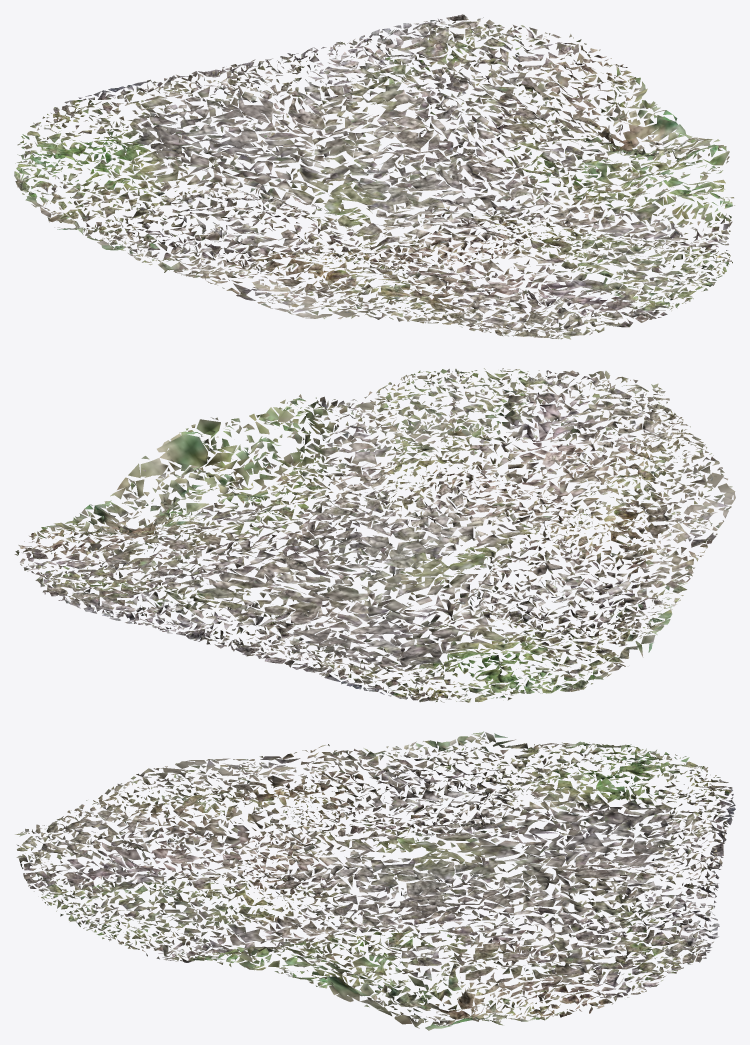
The model's file is tracce-nel-fango.glb.
The picture shows the model from 3 angles, top to bottom: view 1: azimuth 30°, elevation 25°; view 2: azimuth 150°, elevation 25°; view 3: azimuth 270°, elevation 25°; orthographic projection. The views are drawn at different scales.
Parts seen in each view (by area): view 1: Object_2, Object_10, Object_3, Object_11, Object_6, Object_12, Object_14, Object_5, Object_13, Object_4, Object_7, Object_15 (+4 smaller); view 2: Object_2, Object_10, Object_3, Object_11, Object_6, Object_4, Object_14, Object_12, Object_5, Object_13, Object_15, Object_7 (+4 smaller); view 3: Object_2, Object_10, Object_3, Object_11, Object_12, Object_14, Object_6, Object_13, Object_5, Object_4, Object_15, Object_7 (+4 smaller).
Boxes of the visible parts, x1,y1,x2,y2 form: Object_2: (23, 23, 732, 335); Object_10: (15, 21, 732, 328); Object_3: (30, 24, 729, 336); Object_11: (23, 14, 720, 336); Object_6: (22, 19, 731, 337); Object_12: (15, 19, 733, 334); Object_14: (22, 21, 732, 336); Object_5: (21, 23, 729, 332); Object_13: (14, 14, 730, 334); Object_4: (22, 22, 719, 337); Object_7: (17, 17, 726, 334); Object_15: (17, 19, 731, 337); Object_2: (25, 370, 728, 702); Object_10: (28, 370, 693, 701); Object_3: (32, 370, 707, 700); Object_11: (21, 371, 710, 702); Object_6: (15, 369, 732, 694); Object_4: (19, 376, 693, 698); Object_14: (17, 370, 717, 701); Object_12: (20, 371, 709, 699); Object_5: (25, 372, 735, 698); Object_13: (23, 373, 723, 701); Object_15: (28, 368, 719, 702); Object_7: (17, 373, 725, 702); Object_2: (22, 739, 733, 1019); Object_10: (30, 744, 735, 1020); Object_3: (23, 746, 730, 1015); Object_11: (41, 743, 735, 1024); Object_12: (34, 746, 733, 1022); Object_14: (22, 733, 733, 1020); Object_6: (31, 739, 725, 1028); Object_13: (17, 736, 728, 1028); Object_5: (27, 732, 721, 1023); Object_4: (17, 743, 727, 1025); Object_15: (18, 733, 727, 1022); Object_7: (32, 745, 733, 1030).
Bounding box in the file's own units: 4.45 × 0.4061 × 4.92.
Materials: 2 (2 with a texture image).
